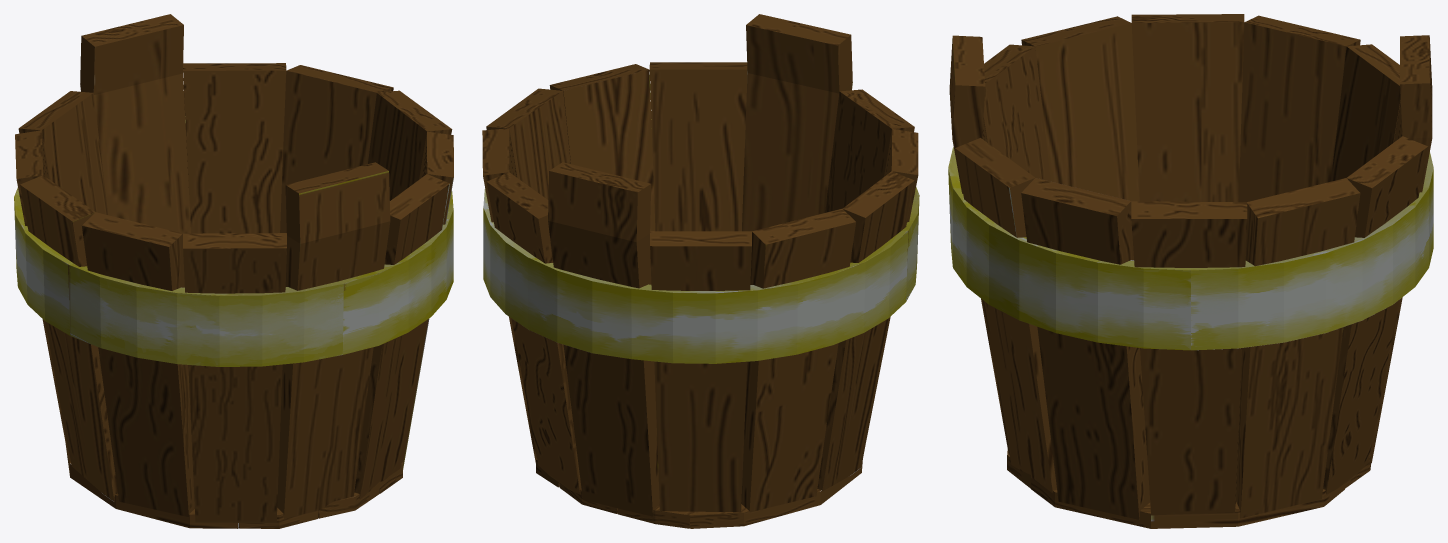
The model's file is MV_Bucket.fbx.
3 renders of one model, left to right at view 1: azimuth 30°, elevation 25°; view 2: azimuth 150°, elevation 25°; view 3: azimuth 270°, elevation 25°, orthographic. The views are drawn at different scales.
Parts seen in each view (by area): view 1: Bucket; view 2: Bucket; view 3: Bucket.
Boxes of the visible parts, box(x1,y1,x2,y2) form: Bucket: box(14, 14, 453, 528); Bucket: box(482, 14, 919, 528); Bucket: box(948, 14, 1433, 528).
Bounding box in the file's own units: 111 × 98.86 × 111.
